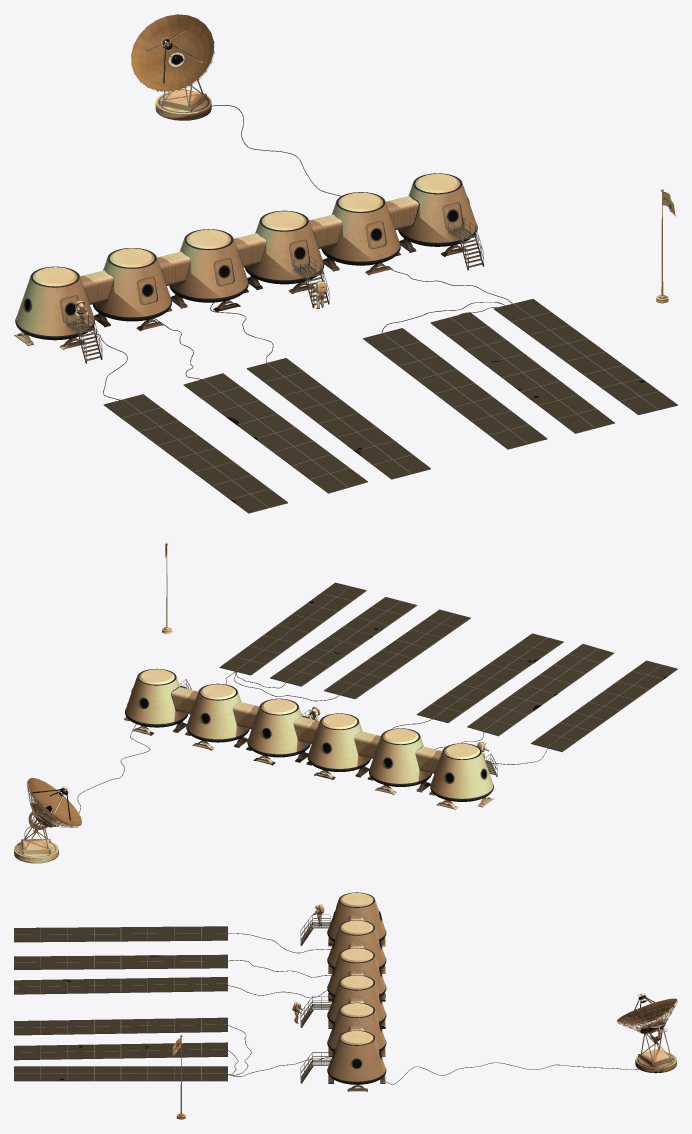
3 renders of one model, top to bottom at view 1: azimuth 30°, elevation 25°; view 2: azimuth 150°, elevation 25°; view 3: azimuth 270°, elevation 25°, orthographic. The views are drawn at different scales.
Parts seen in each view (by area): view 1: Object_14, Object_13, Object_31, Object_18, Object_20, Object_26, Object_22, Object_24, Object_28, Object_15, Object_19, Object_25 (+4 smaller); view 2: Object_14, Object_13, Object_31, Object_18, Object_26, Object_20, Object_24, Object_22, Object_28, Object_17, Object_27, Object_21 (+3 smaller); view 3: Object_13, Object_14, Object_31, Object_28, Object_24, Object_26, Object_18, Object_20, Object_22, Object_15, Object_27, Object_25 (+4 smaller).
Boxes of the visible parts, x1=… form: Object_14: x1=103, y1=358, x2=677, y2=513; Object_13: x1=89, y1=105, x2=677, y2=449; Object_31: x1=131, y1=14, x2=214, y2=120; Object_18: x1=15, y1=266, x2=113, y2=340; Object_20: x1=92, y1=248, x2=190, y2=321; Object_26: x1=321, y1=192, x2=418, y2=265; Object_22: x1=169, y1=229, x2=266, y2=302; Object_24: x1=244, y1=210, x2=342, y2=284; Object_28: x1=398, y1=173, x2=477, y2=246; Object_15: x1=66, y1=218, x2=484, y2=363; Object_19: x1=94, y1=248, x2=172, y2=331; Object_25: x1=323, y1=192, x2=400, y2=275; Object_14: x1=321, y1=582, x2=677, y2=752; Object_13: x1=24, y1=586, x2=547, y2=836; Object_31: x1=14, y1=778, x2=81, y2=863; Object_18: x1=415, y1=743, x2=493, y2=801; Object_26: x1=171, y1=683, x2=249, y2=742; Object_20: x1=354, y1=728, x2=432, y2=786; Object_24: x1=232, y1=698, x2=310, y2=757; Object_22: x1=293, y1=713, x2=370, y2=771; Object_28: x1=125, y1=668, x2=188, y2=727; Object_17: x1=429, y1=743, x2=493, y2=809; Object_27: x1=124, y1=669, x2=186, y2=735; Object_21: x1=306, y1=713, x2=368, y2=779; Object_13: x1=14, y1=933, x2=643, y2=1084; Object_14: x1=14, y1=926, x2=227, y2=1080; Object_31: x1=617, y1=993, x2=677, y2=1073; Object_28: x1=327, y1=1030, x2=386, y2=1084; Object_24: x1=327, y1=975, x2=386, y2=1023; Object_26: x1=327, y1=1002, x2=386, y2=1051; Object_18: x1=327, y1=892, x2=386, y2=941; Object_20: x1=327, y1=920, x2=386, y2=968; Object_22: x1=327, y1=948, x2=386, y2=996; Object_15: x1=300, y1=914, x2=330, y2=1083; Object_27: x1=328, y1=1030, x2=385, y2=1091; Object_25: x1=328, y1=1003, x2=385, y2=1056.
Bounding box in the file's own units: 33.58 × 7 × 48.85.
